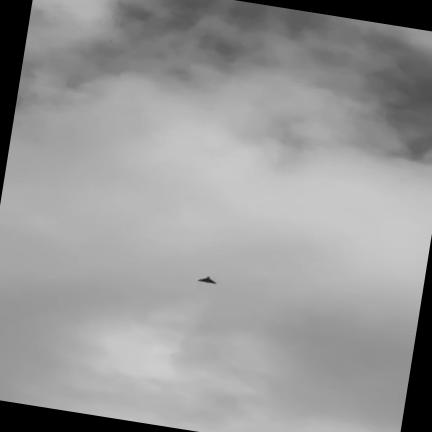Shahed: (198, 277, 216, 284)
